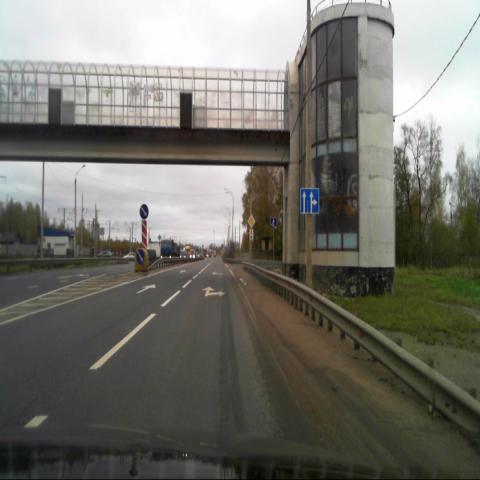5_15_2_2: (300, 186, 320, 214)
